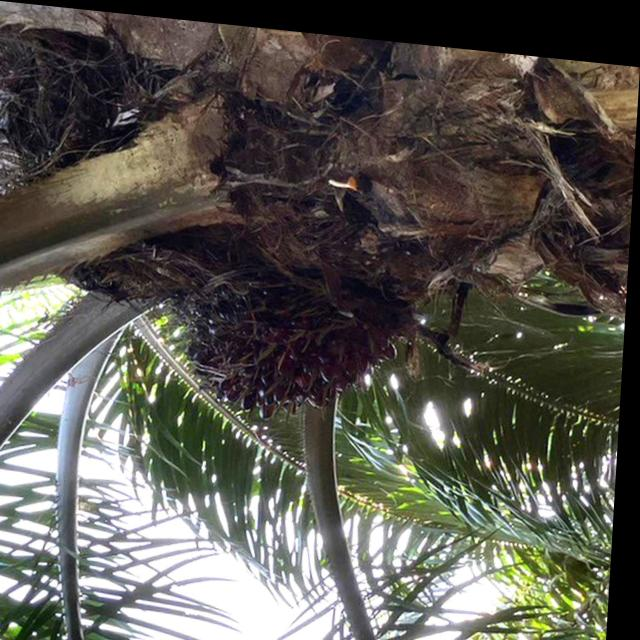ripe: (187, 255, 407, 418)
